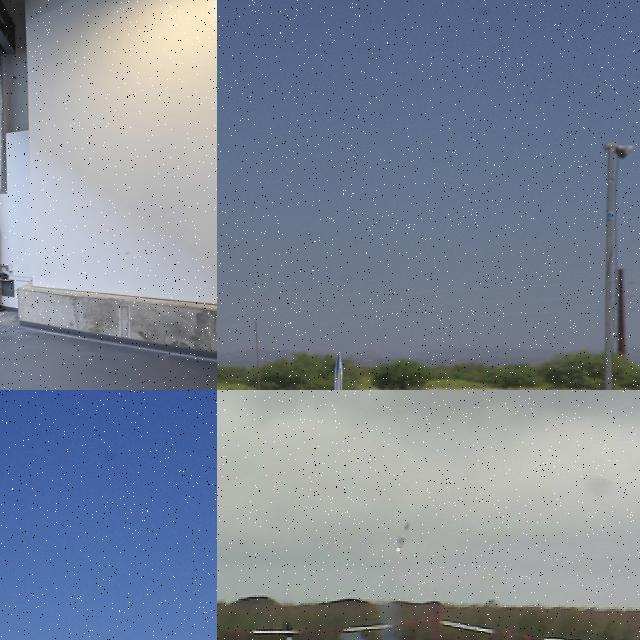Rocket: (320, 353, 356, 390), (393, 521, 412, 548), (277, 621, 299, 640)
